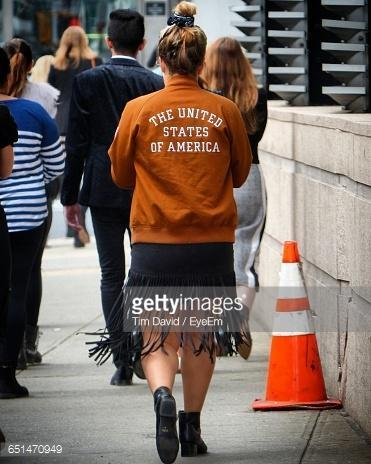Cone: (253, 240, 343, 411)
